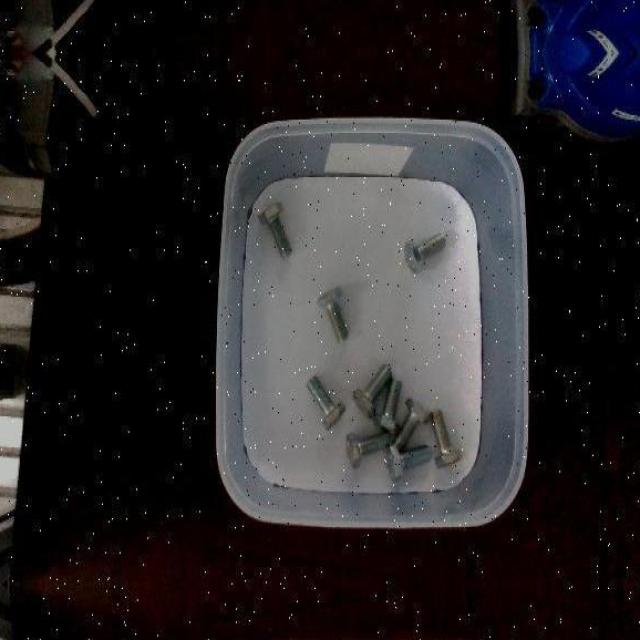screw: (306, 372, 346, 431), (352, 362, 392, 417), (430, 409, 462, 469), (259, 200, 292, 258), (316, 286, 348, 343), (345, 430, 392, 468), (404, 230, 446, 272), (385, 442, 430, 480), (373, 377, 402, 434)
